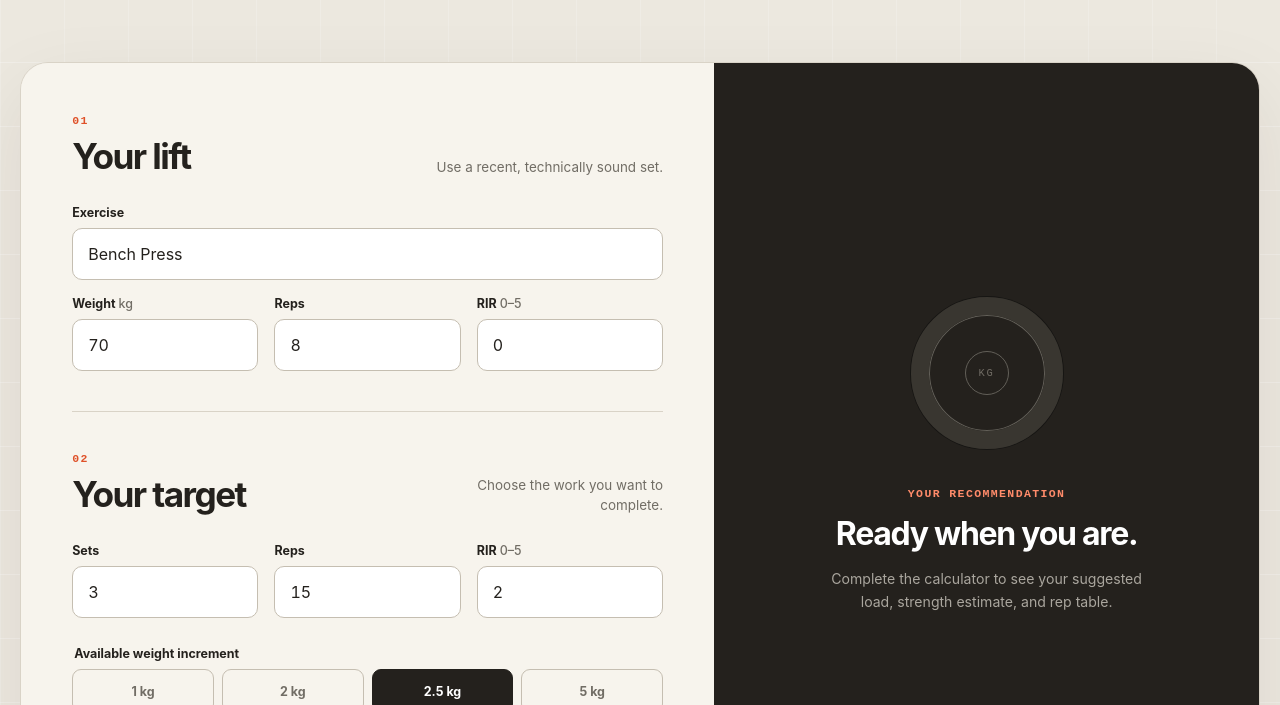
Test: calculator UI › shows inline validation and withholds results for invalid input
The width and height of the screenshot is (1280, 705).
(page scrolled)
Step 1. Replace the text in the number field labelled "Weight kg" with "0" → {"x": 165, "y": 345}, box [72,319,258,371]
(page scrolled)
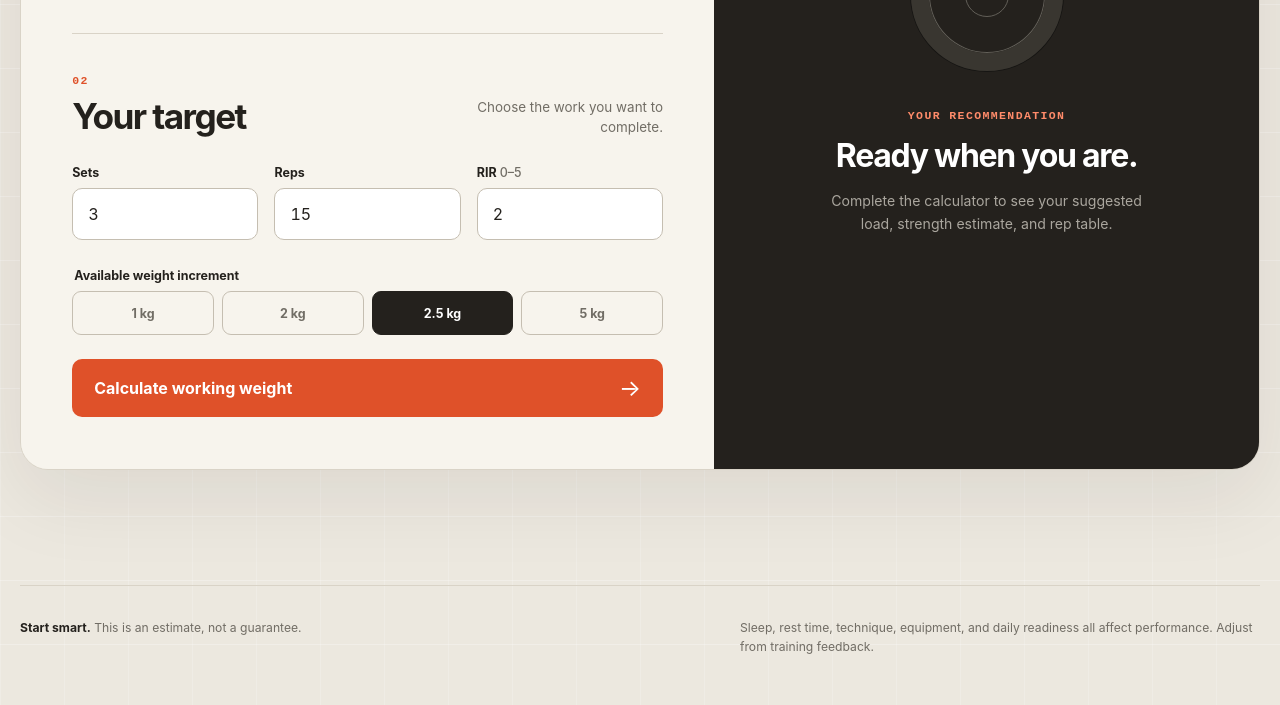
Step 2. Click the button "Calculate working weight →" → {"x": 193, "y": 388}, box [72,359,663,417]
(page scrolled)
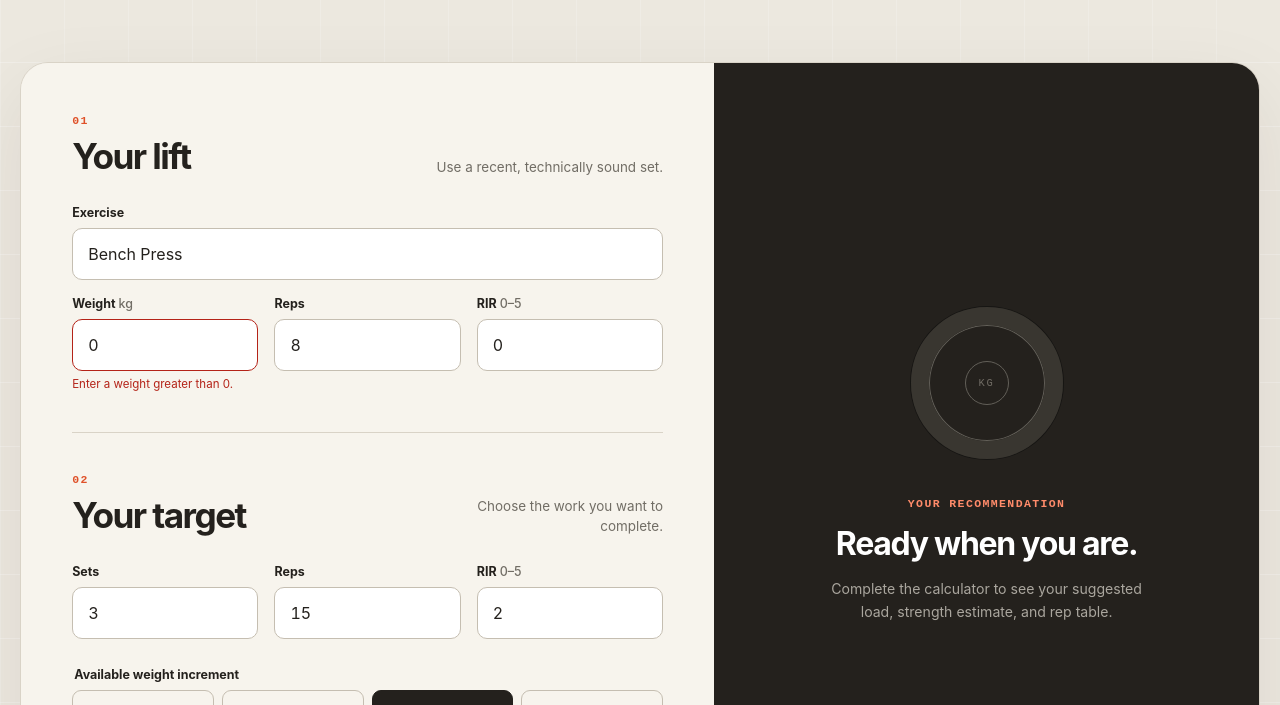
Result: the text "Enter a weight greater than 0." is shown at [72,377,258,392]
